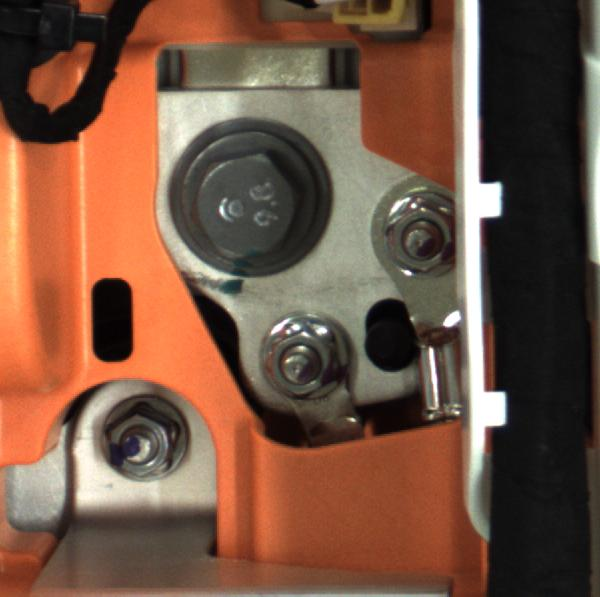nut_b: (169, 119, 336, 270)
screw_s: (247, 319, 359, 405), (376, 185, 466, 291), (97, 408, 188, 488)
